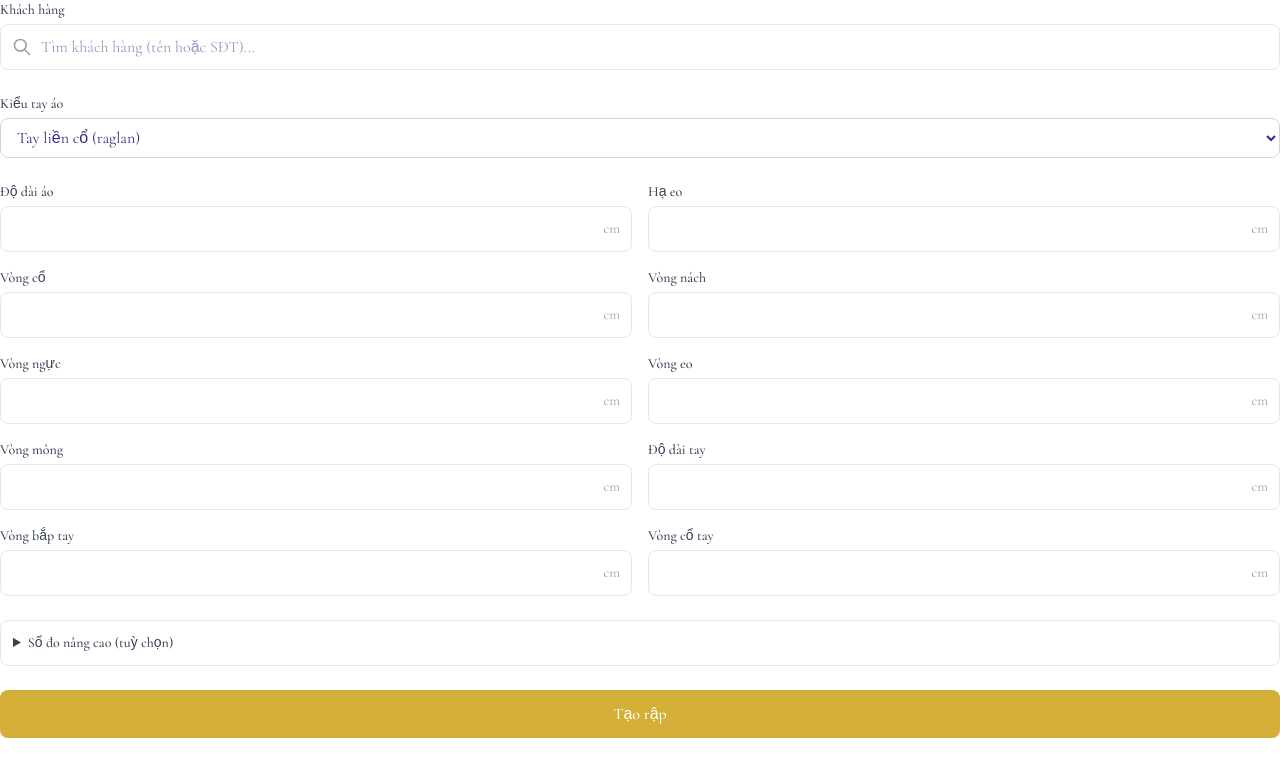
MeasurementForm › shows manual edit indicator when auto-filled value is changed
Select customer
Type "Nguyễn" into the field with placeholder "Tìm khách hàng (tên hoặc SĐT)..." at (640, 47), box [0, 24, 1279, 70]
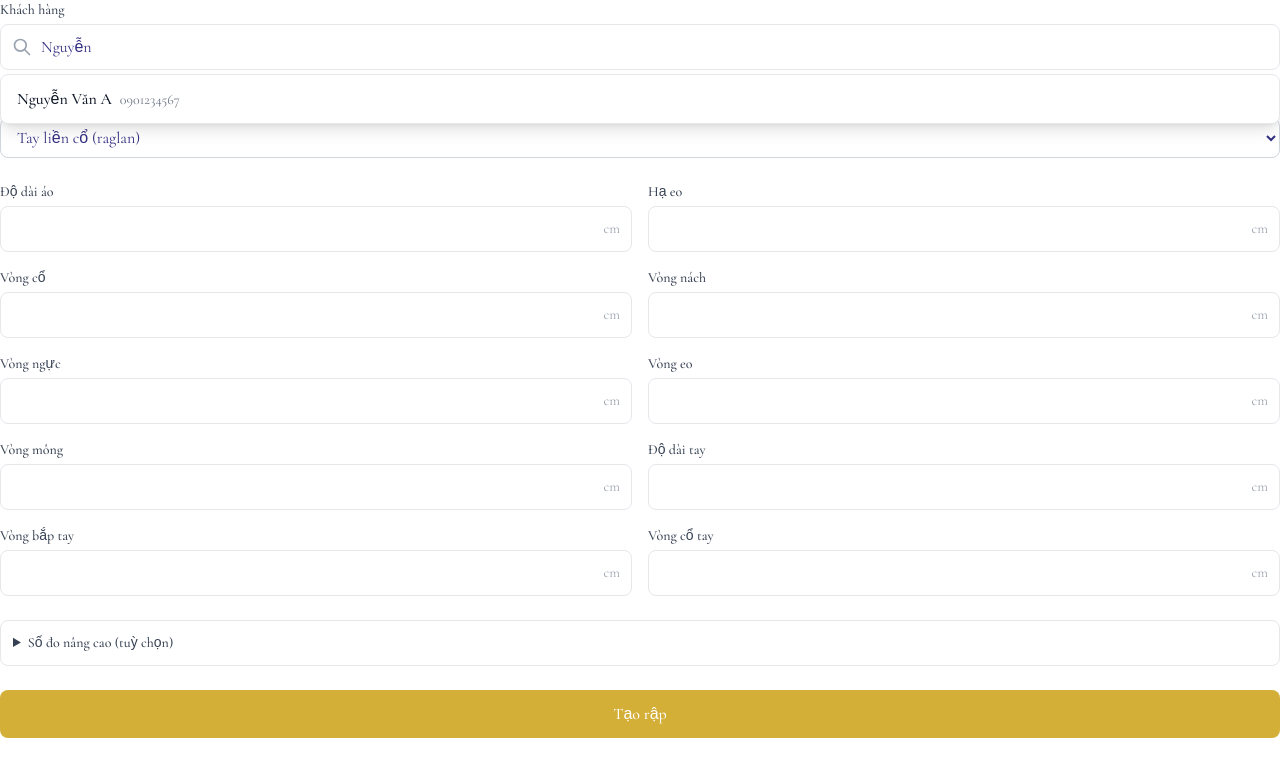
Click the option "Nguyễn Văn A0901234567" at (64, 99), box [1, 75, 1279, 123]
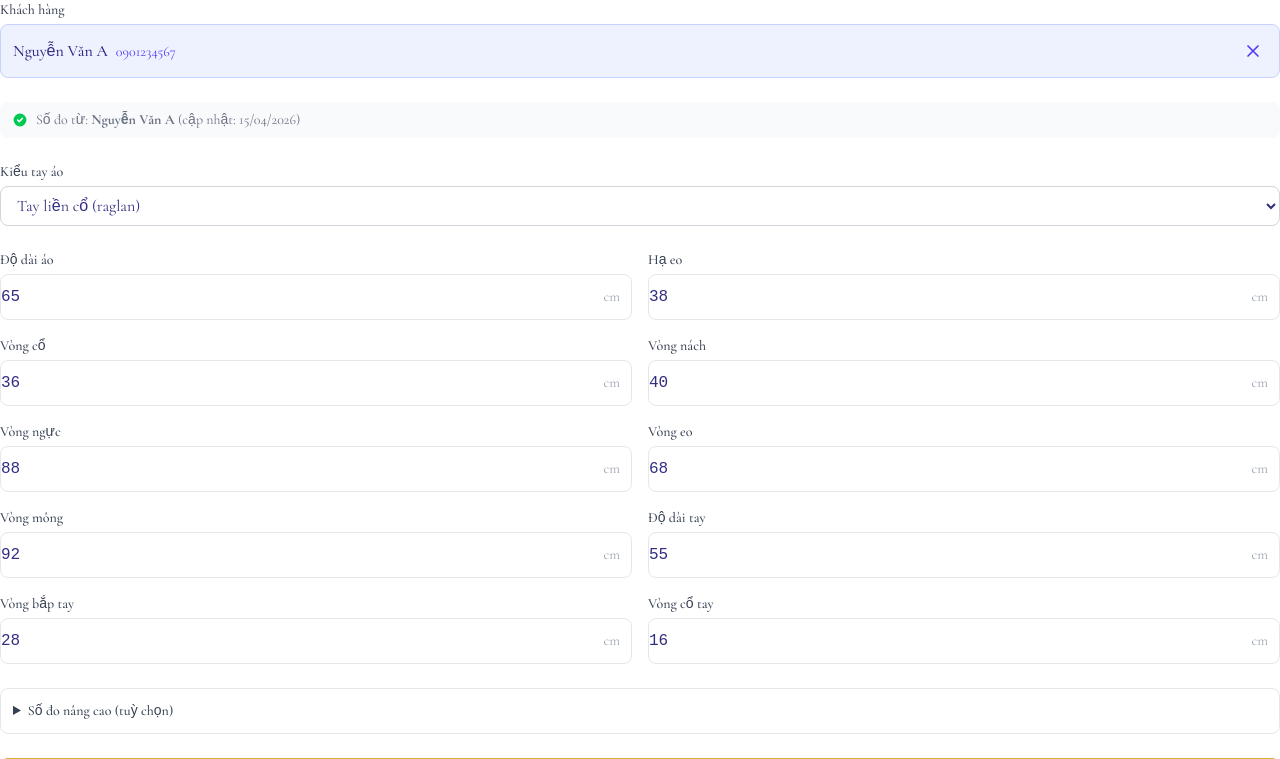
Modify a measurement value
Replace the text in the number field labelled "Vòng cổ" with "38" at (316, 383), box [0, 360, 632, 406]
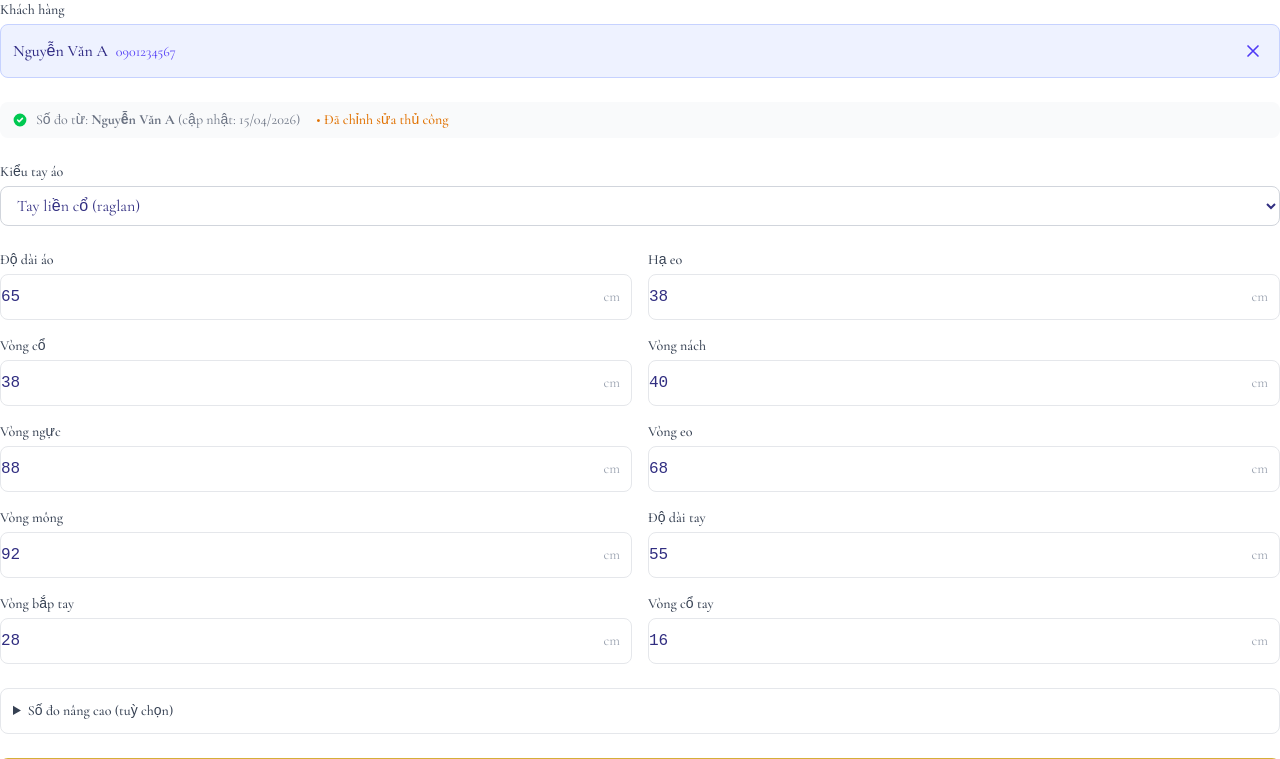
Check: the text "• Đã chỉnh sửa thủ công" is shown, box [316, 110, 448, 130]
